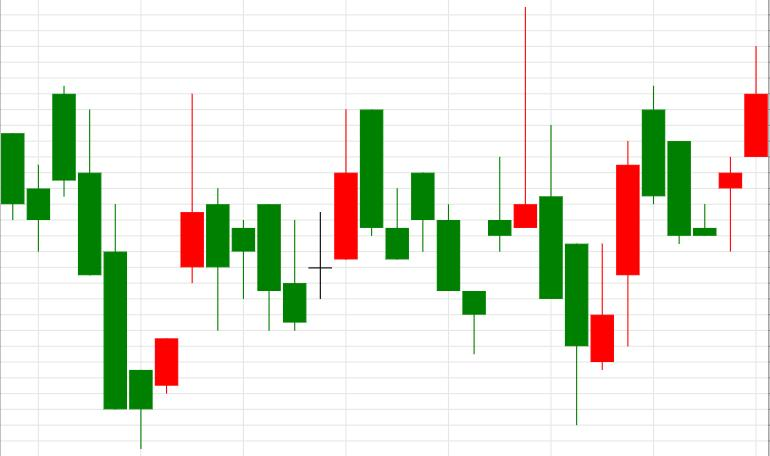hammer_rise: (361, 110, 486, 354)
inverse_hammer_rise: (180, 93, 307, 331)
